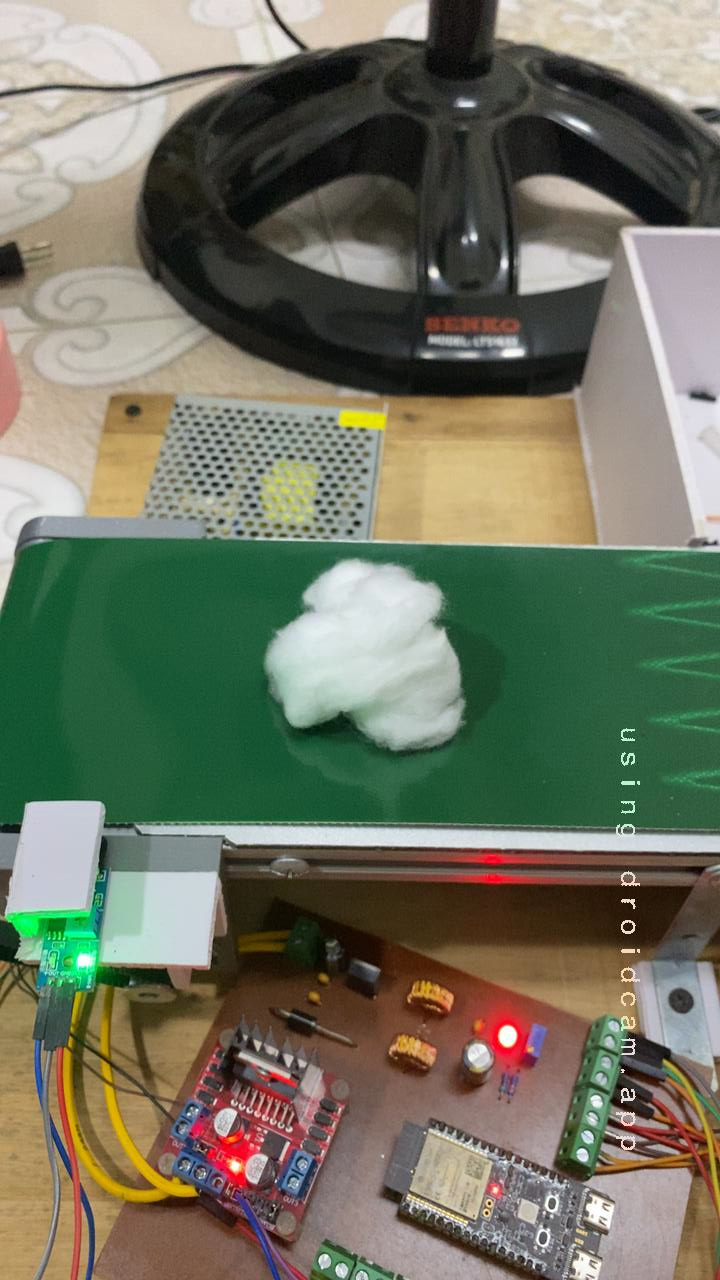cotton: (231, 549, 495, 773)
